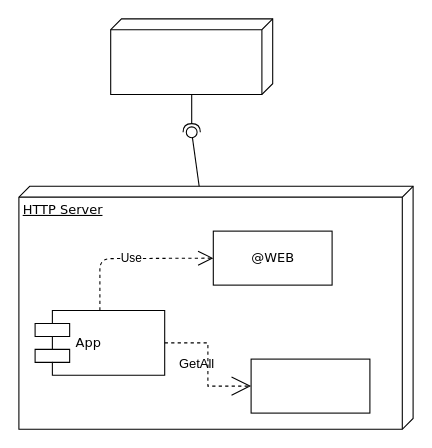
Image size: 432x448. Some labels were removed from this diagram. Here are the shapes that lost their labels. From the top down, the centre of each, then its label:
At pixel 191 56: "Client".
At pixel 310 385: "WebServices".
